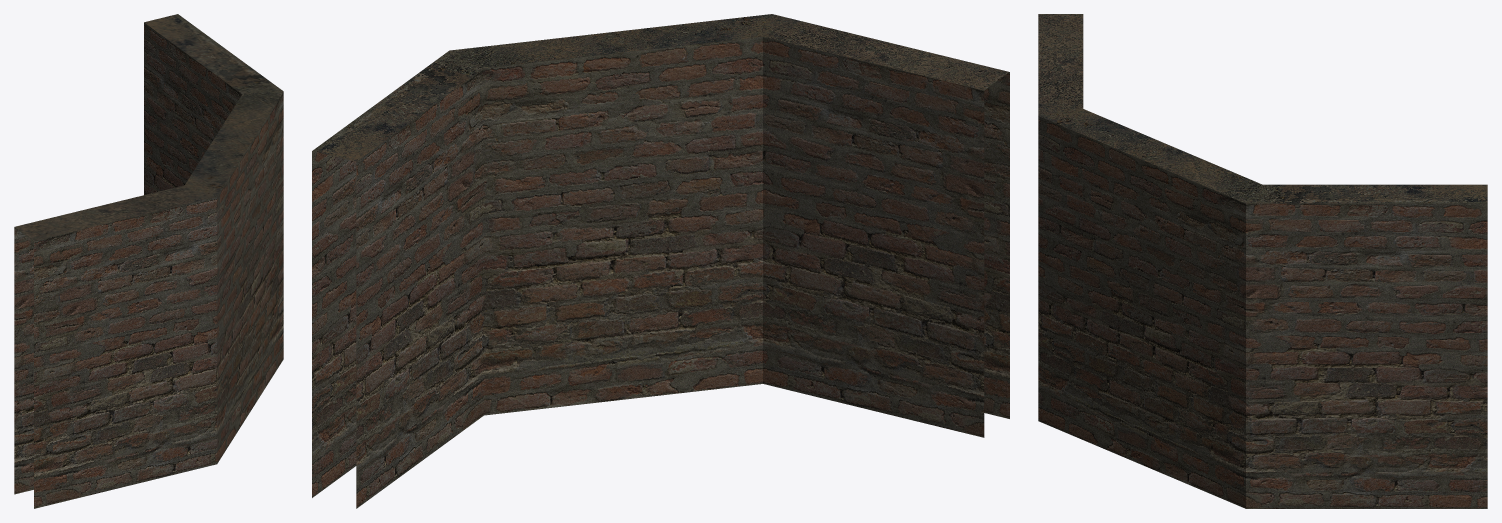
The model's file is wall_hr_1_m2a_2.glb.
The picture shows the model from 3 angles, left to right: view 1: azimuth 30°, elevation 25°; view 2: azimuth 150°, elevation 25°; view 3: azimuth 270°, elevation 25°; orthographic projection. The views are drawn at different scales.
Parts seen in each view (by area): view 1: wall_hr_1_m2a_2; view 2: wall_hr_1_m2a_2; view 3: wall_hr_1_m2a_2.
Part boxes in pixels (x1,y1,x2,y2): wall_hr_1_m2a_2: (14, 14, 283, 508); wall_hr_1_m2a_2: (312, 14, 1009, 508); wall_hr_1_m2a_2: (1038, 14, 1487, 508).
Size of the model in its own units: 4 by 3 by 4.
Materials: 2 (2 with a texture image).
